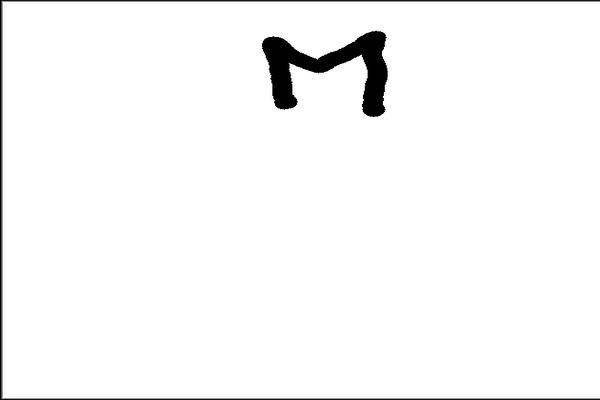M: (259, 26, 391, 117)
